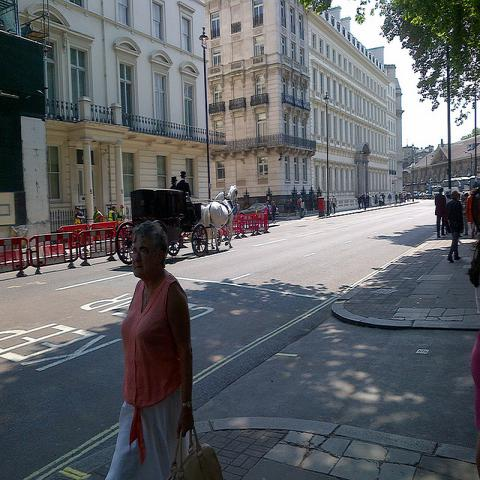bus: (451, 176, 471, 200)
car: (239, 203, 279, 220)
